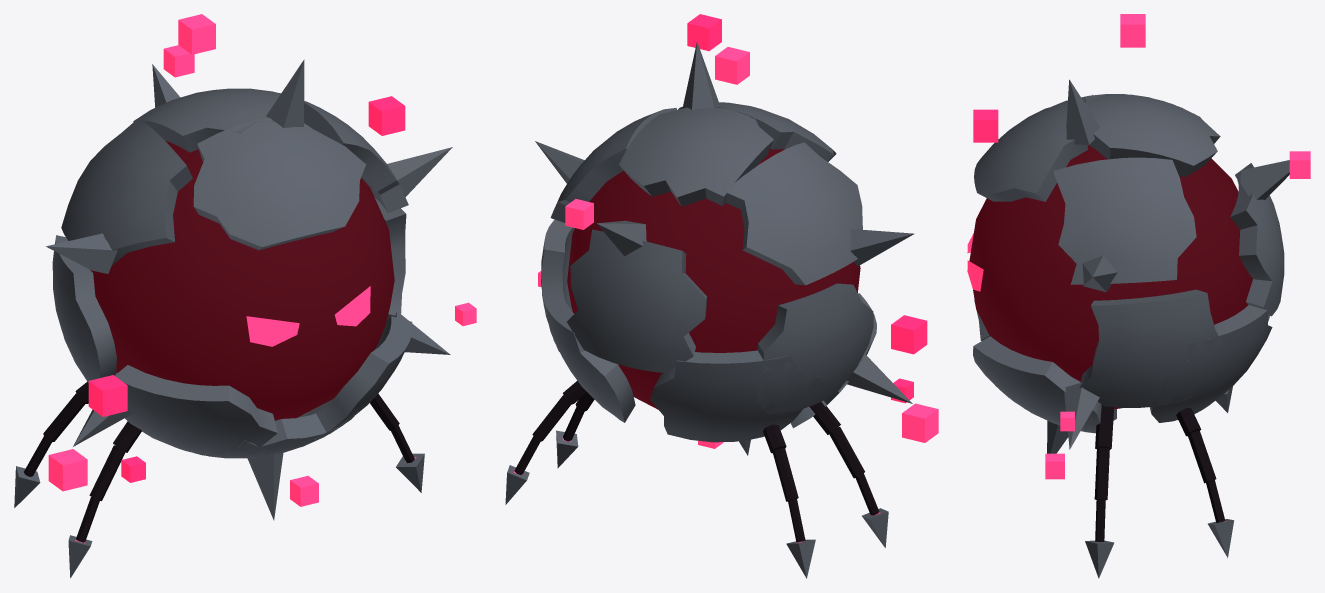
Rendered from virus-small.glb.
3 views of the same model, side by side, from view 1: azimuth 30°, elevation 25°; view 2: azimuth 150°, elevation 25°; view 3: azimuth 270°, elevation 25° (orthographic). The views are drawn at different scales.
Visible parts, largest first — view 1: Core, Shard_10, Shard_2, Shard_6, Shard_4, Shard_0, Shard_5, Shard_1, Shard_11, Shard_3, SpikeMesh_2, SpikeMesh_0 (+17 smaller); view 2: Core, Shard_7, Shard_2, Shard_0, Shard_9, Shard_4, Shard_8, Shard_1, Shard_3, Shard_10, SpikeMesh_0, SpikeMesh_2 (+14 smaller); view 3: Core, Shard_1, Shard_3, Shard_0, Shard_10, Shard_8, Shard_5, Shard_7, SpikeMesh_0, SpikeMesh_5, SpikeMesh_3, SpikeMesh_1 (+10 smaller).
Part boxes in pixels (x1,y1,x2,y2): Core: (90, 141, 394, 420); Shard_10: (193, 117, 366, 250); Shard_2: (61, 119, 192, 265); Shard_6: (115, 365, 277, 458); Shard_4: (52, 235, 116, 382); Shard_0: (133, 88, 280, 152); Shard_5: (302, 316, 412, 446); Shard_1: (279, 93, 408, 213); Shard_11: (194, 407, 358, 458); Shard_3: (374, 197, 406, 319); SpikeMesh_2: (46, 233, 117, 273); SpikeMesh_0: (266, 59, 304, 127); Core: (567, 148, 860, 409); Shard_7: (567, 229, 706, 373); Shard_2: (724, 142, 862, 285); Shard_0: (619, 105, 773, 206); Shard_9: (650, 350, 824, 442); Shard_4: (756, 283, 873, 414); Shard_8: (542, 292, 635, 422); Shard_1: (550, 108, 676, 222); Shard_3: (541, 219, 574, 351); Shard_10: (678, 102, 836, 161); SpikeMesh_0: (682, 41, 719, 109); SpikeMesh_2: (850, 229, 914, 266); Core: (969, 145, 1252, 409); Shard_1: (1053, 157, 1196, 284); Shard_3: (1079, 289, 1223, 407); Shard_0: (1084, 94, 1220, 177); Shard_10: (974, 96, 1087, 201); Shard_8: (1149, 305, 1272, 422); Shard_5: (973, 336, 1101, 433); Shard_7: (1230, 163, 1284, 316); SpikeMesh_0: (1066, 79, 1100, 144); SpikeMesh_5: (1240, 160, 1289, 199); SpikeMesh_3: (1064, 382, 1099, 449); SpikeMesh_1: (1082, 255, 1117, 292).
Size of the model in its own units: 0.4735 by 0.5504 by 0.3663.
